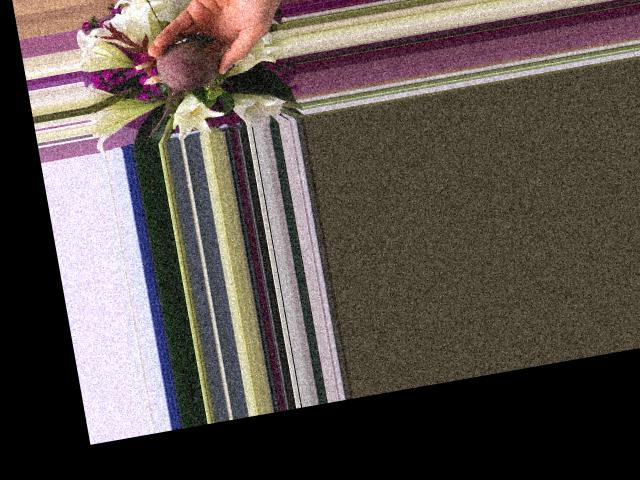beet: (128, 29, 231, 142)
